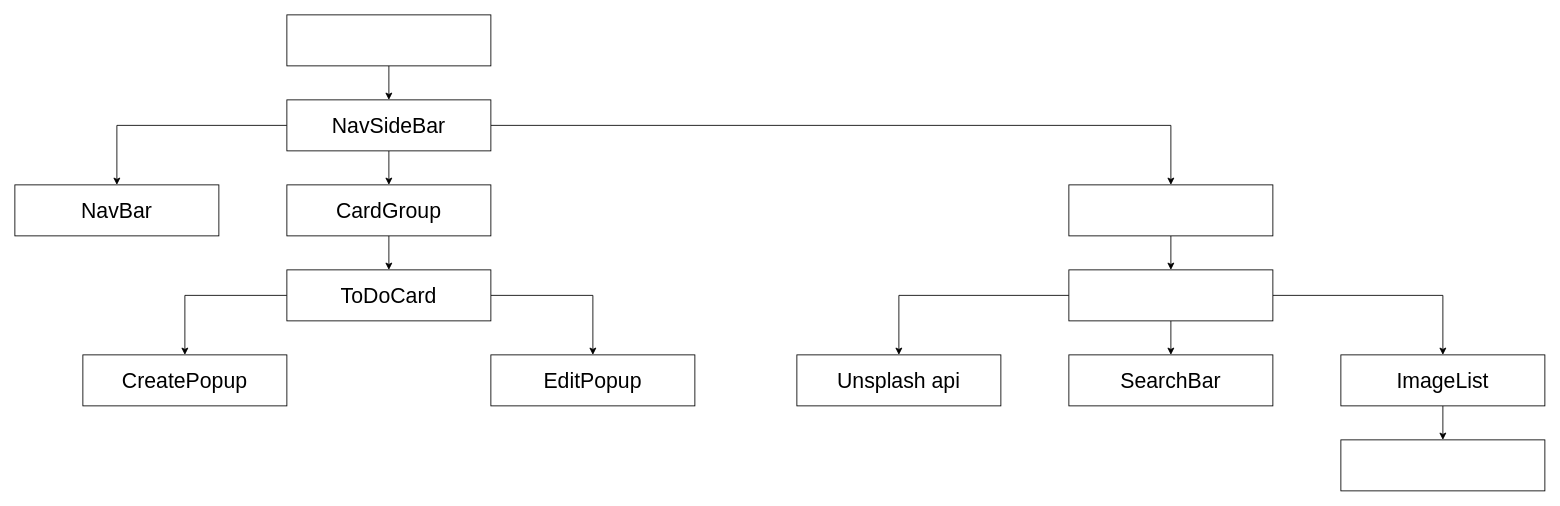
Some shapes in this 1560 by 506 pixel diagram are drawn without their labels. The centre of each missing label's shape, as x and y in pixels:
"App" goes at [388,40].
"ImageCard" goes at [1442,465].
"ImageSearchModal" goes at [1170,210].
"PhotoSearch" goes at [1170,295].
